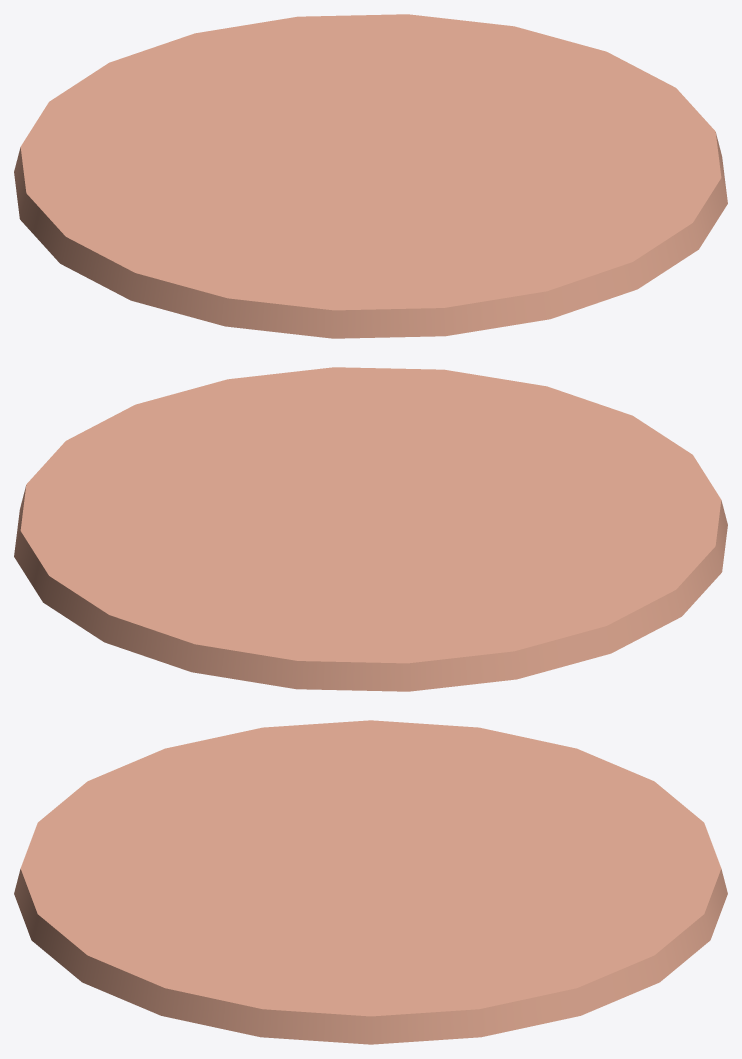
Rendered from aws_spotlight_01_visual.DAE.
The picture shows the model from 3 angles, top to bottom: view 1: azimuth 30°, elevation 25°; view 2: azimuth 150°, elevation 25°; view 3: azimuth 270°, elevation 25°; orthographic projection.
Visible parts, largest first — view 1: aws_spotlight_01_visual; view 2: aws_spotlight_01_visual; view 3: aws_spotlight_01_visual.
Boxes of the visible parts, x1,y1,x2,y2 form: aws_spotlight_01_visual: (14, 14, 727, 338); aws_spotlight_01_visual: (14, 367, 727, 691); aws_spotlight_01_visual: (14, 720, 727, 1044).
Size of the model in its own units: 10.19 by 10.19 by 0.4.
Materials: 1 (1 with a texture image).
